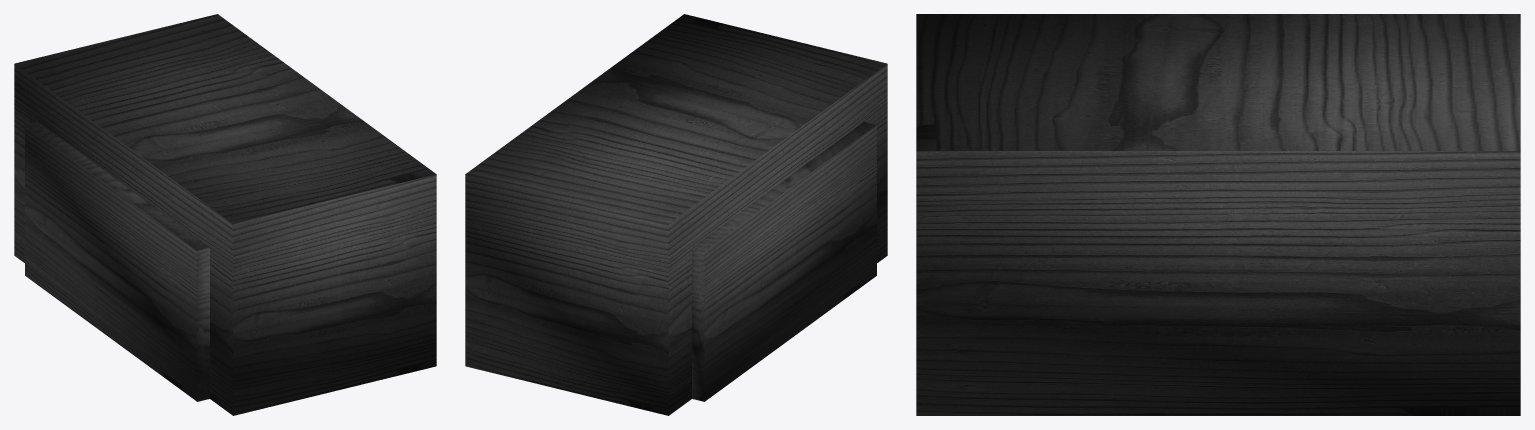
Rendered from buroC1.obj.
3 renders of one model, left to right at view 1: azimuth 30°, elevation 25°; view 2: azimuth 150°, elevation 25°; view 3: azimuth 270°, elevation 25°, orthographic. The views are drawn at different scales.
Visible parts, largest first — view 1: Box001, Box002; view 2: Box001, Box002; view 3: Box001.
Part boxes in pixels (<box>): Box001: <box>14,14,436,415</box>; Box002: <box>25,121,209,401</box>; Box001: <box>465,14,887,415</box>; Box002: <box>692,121,876,401</box>; Box001: <box>916,14,1520,415</box>.
Size of the model in its own units: 15.53 by 13.19 by 27.29.
1 material, 1 textured.
